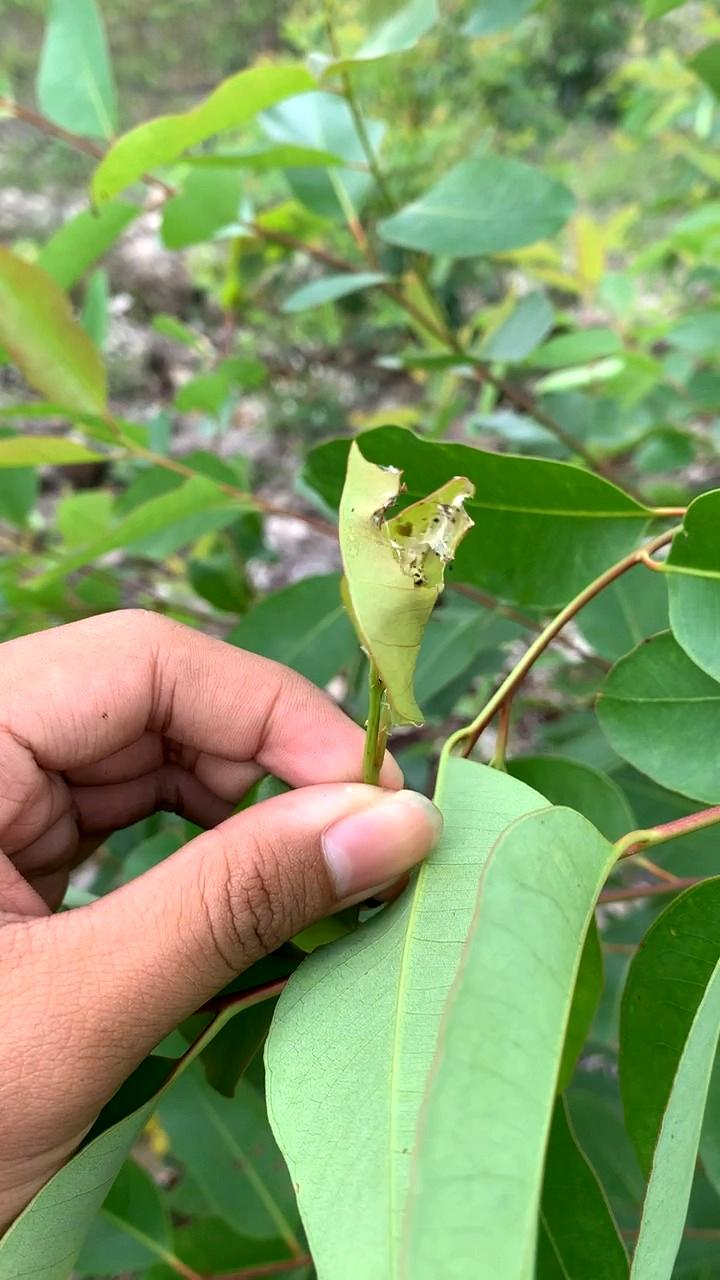Leaf Roller - Leaf: (331, 413, 475, 685)
